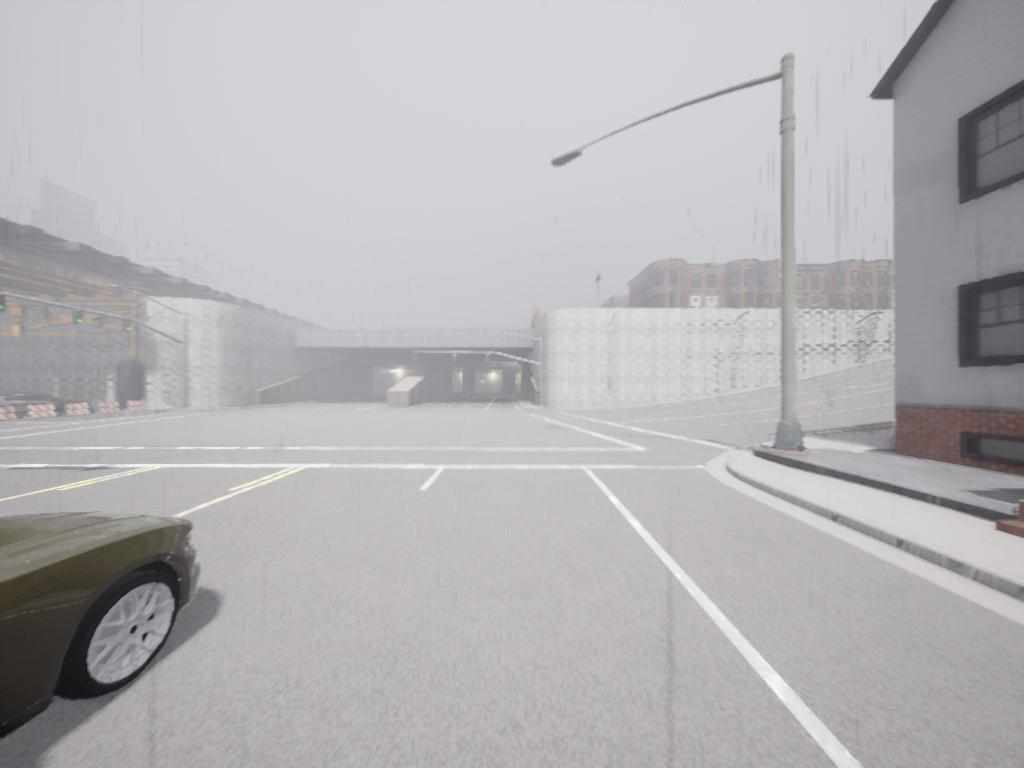traffic_light: (454, 354, 459, 365), (414, 355, 419, 365), (486, 355, 491, 365)
